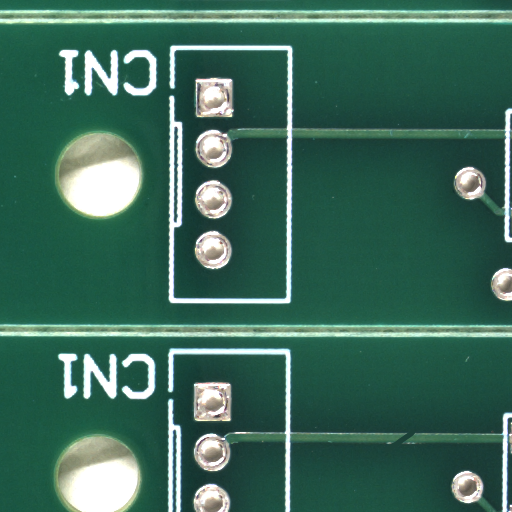Open_circuit: (403, 438, 428, 451)
